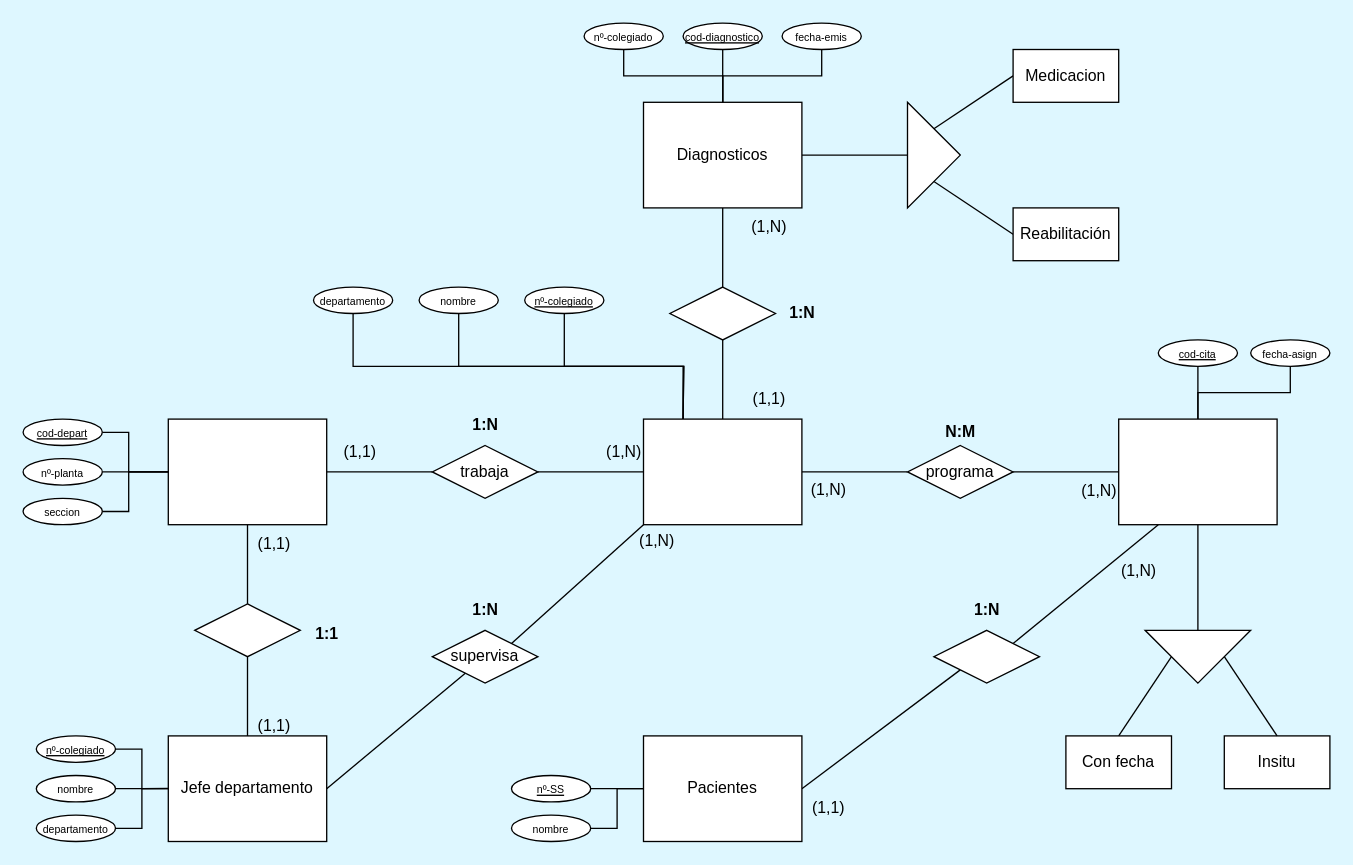
The diagram is 1353 pixels wide and 865 high, and some of its shapes have lost their labels. Each missing label, with the centre of its shape:
Citas: point 1197,471
departamentos: point 247,471
dirige: point 246,630
emite: point 722,313
Medicos: point 722,471
tiene: point 986,656
